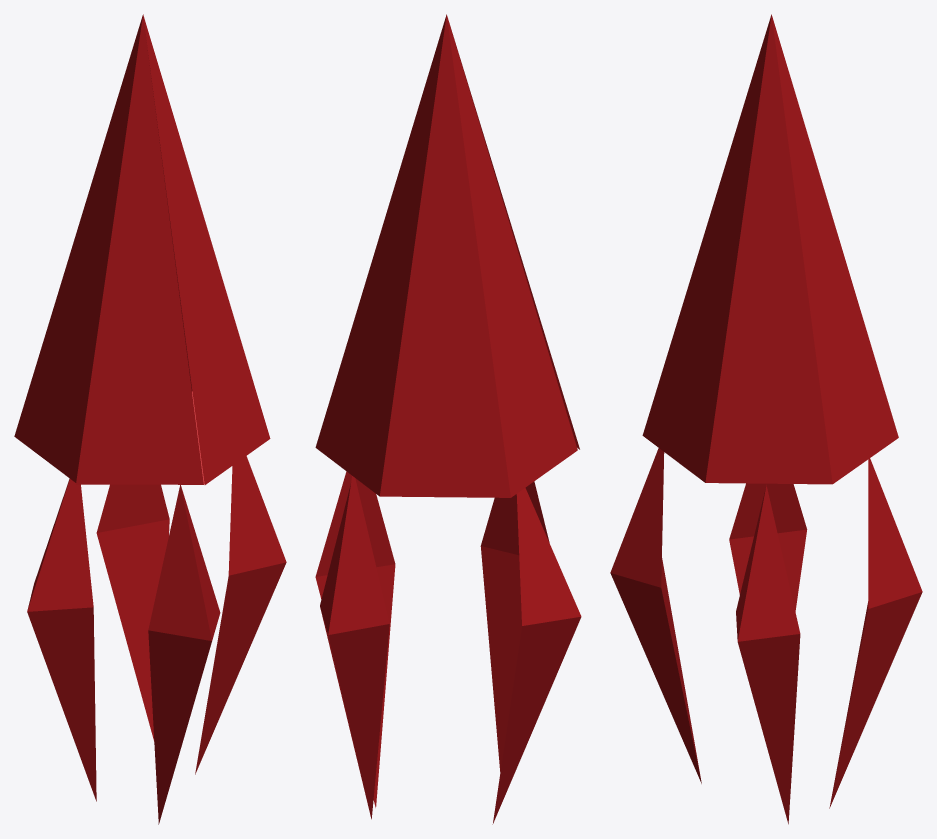
3 renders of one model, left to right at view 1: azimuth 30°, elevation 25°; view 2: azimuth 150°, elevation 25°; view 3: azimuth 270°, elevation 25°, orthographic. The views are drawn at different scales.
Visible parts, largest first — view 1: ss3d_79; view 2: ss3d_79; view 3: ss3d_79.
Part boxes in pixels (left/top/right/bottom): ss3d_79: left=14, top=14, right=286, bottom=824; ss3d_79: left=315, top=14, right=581, bottom=824; ss3d_79: left=610, top=14, right=922, bottom=824.
Bounding box in the file's own units: 1.33 × 3.97 × 1.44.
Materials: 1 (1 with a texture image).
